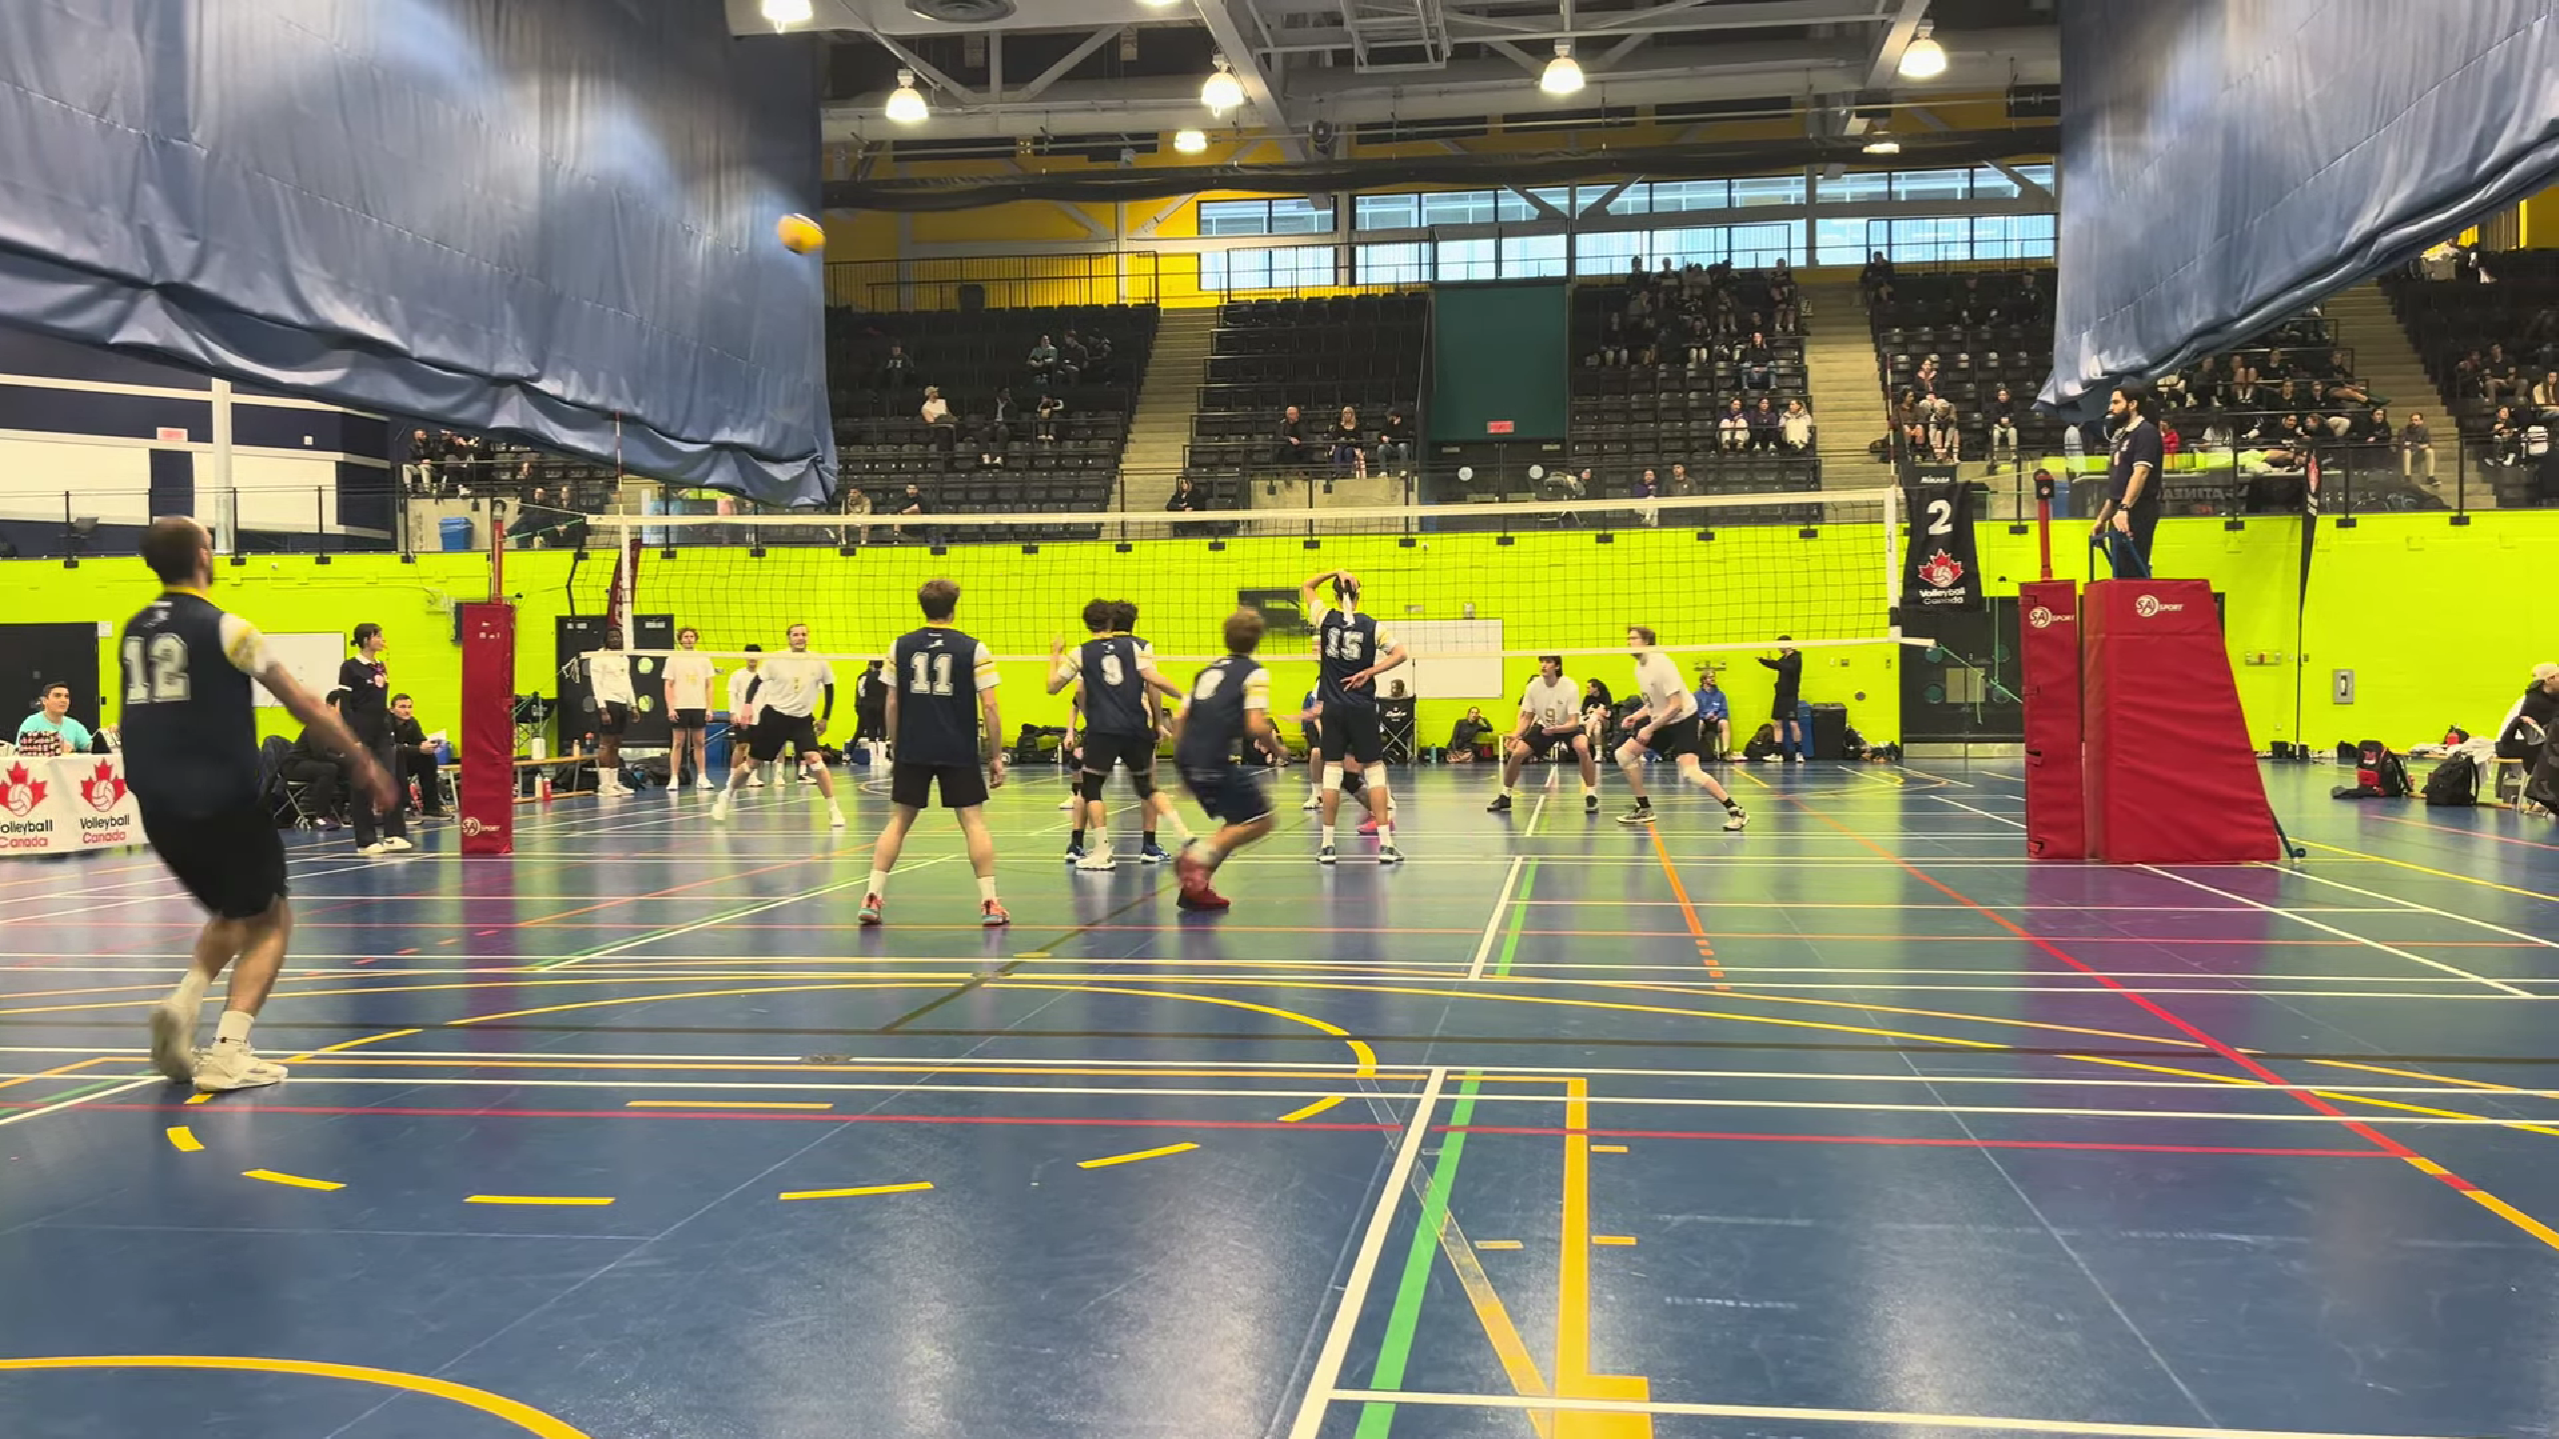Ball: (775, 211, 828, 257)
